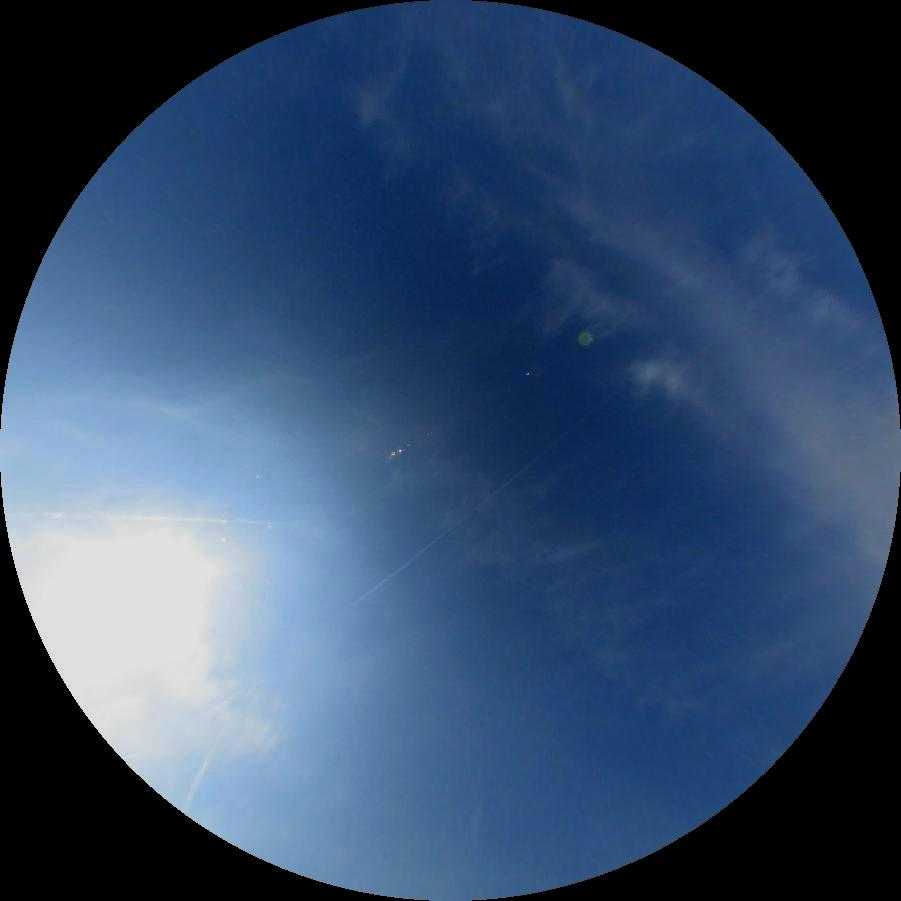contrail young: (274, 425, 577, 669)
parasite: (6, 511, 290, 529)
sun: (11, 527, 215, 722)
unknow: (180, 730, 221, 814)
